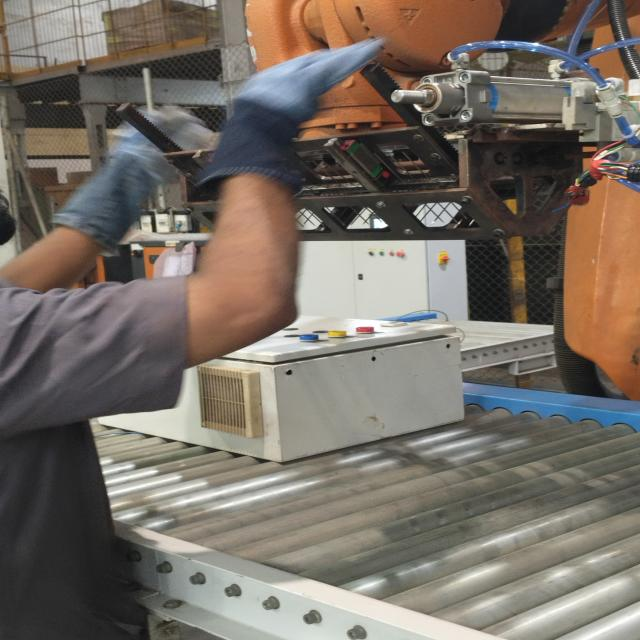Gloves-Detection: (57, 96, 154, 255), (210, 44, 314, 188)
